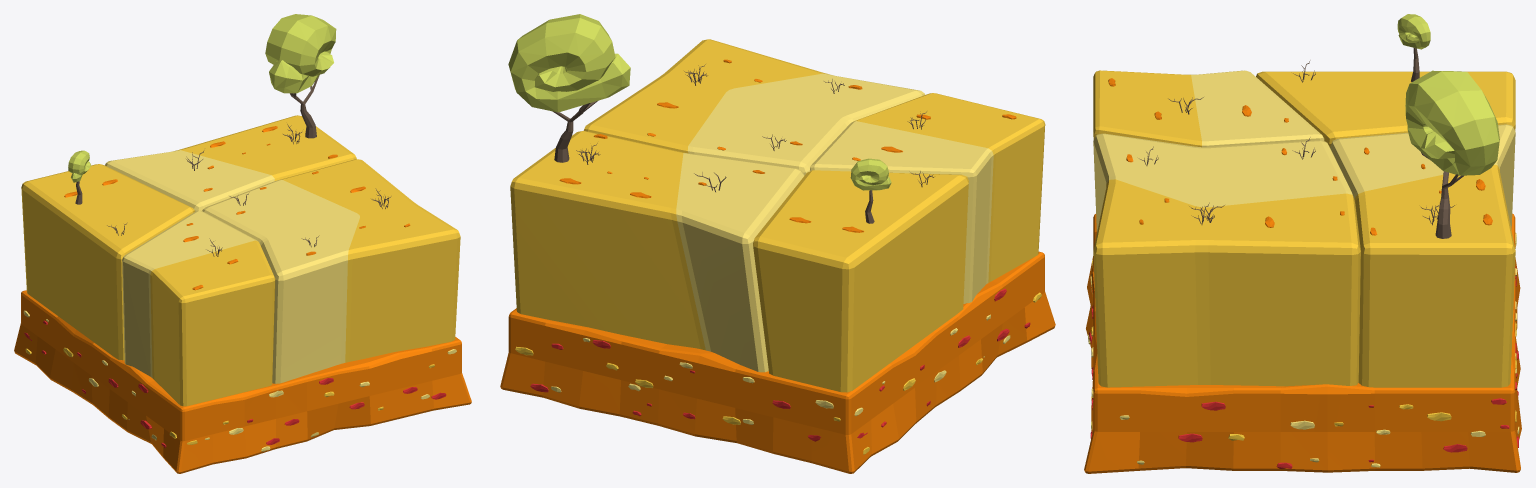
The model's file is Island_15.glb.
The picture shows the model from 3 angles, left to right: view 1: azimuth 30°, elevation 25°; view 2: azimuth 150°, elevation 25°; view 3: azimuth 270°, elevation 25°; orthographic projection. The views are drawn at different scales.
Parts seen in each view (by area): view 1: Island_15_Base, Island_15; view 2: Island_15_Base, Island_15; view 3: Island_15_Base, Island_15.
Boxes of the visible parts, left/top/right/bottom form: Island_15_Base: left=14, top=115, right=471, bottom=473; Island_15: left=68, top=14, right=391, bottom=256; Island_15_Base: left=500, top=39, right=1055, bottom=473; Island_15: left=508, top=14, right=933, bottom=223; Island_15_Base: left=1084, top=70, right=1521, bottom=473; Island_15: left=1138, top=14, right=1499, bottom=238.
Size of the model in its own units: 21.42 by 19.89 by 20.76.
Materials: 1 (1 with a texture image).
